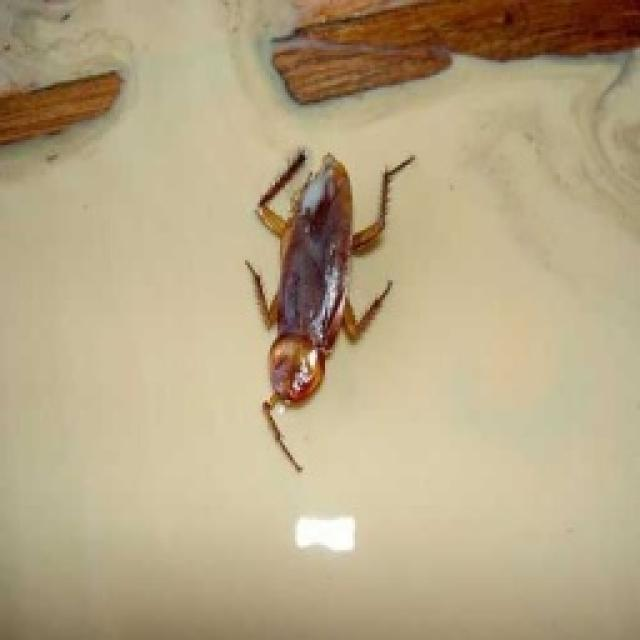cockroach: (239, 143, 420, 477)
